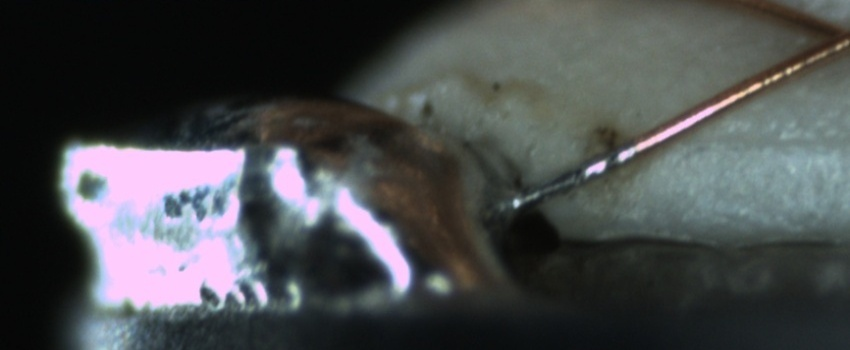CL: (796, 5, 850, 66)
DL: (687, 111, 849, 174)
TS: (518, 142, 638, 208)
